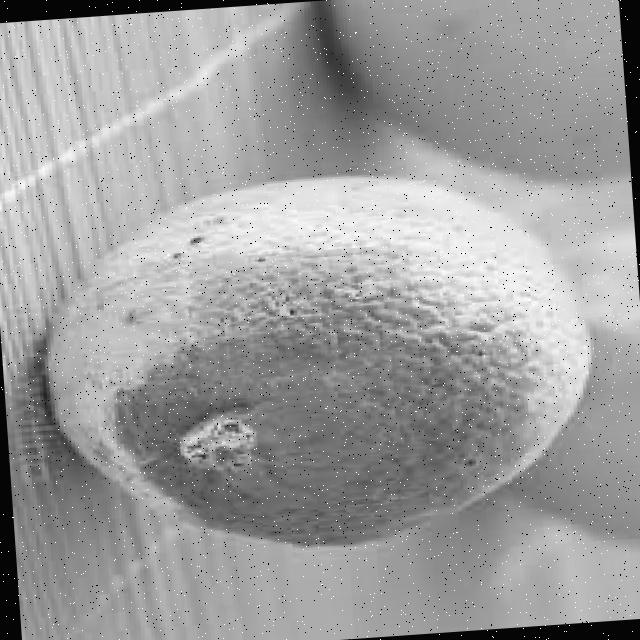Rotten: (33, 158, 605, 564)
